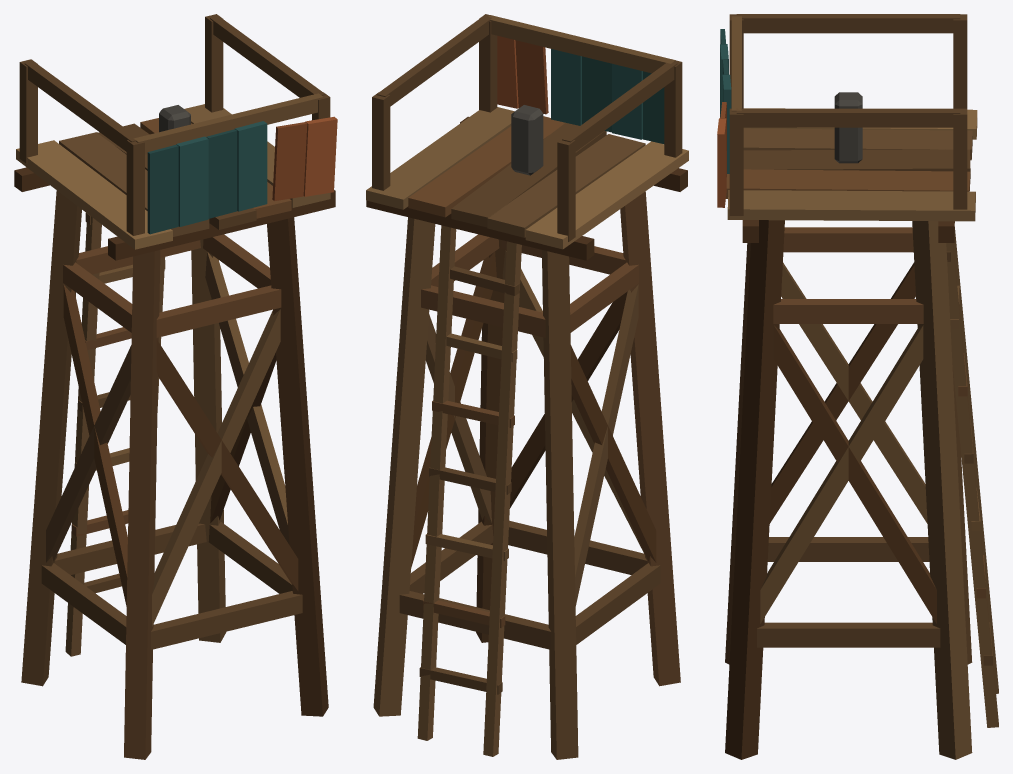
The model's file is torre_2.glb.
3 renders of one model, left to right at view 1: azimuth 30°, elevation 25°; view 2: azimuth 150°, elevation 25°; view 3: azimuth 270°, elevation 25°, orthographic. The views are drawn at different scales.
Visible parts, largest first — view 1: torre_2.001; view 2: torre_2.001; view 3: torre_2.001.
Boxes of the visible parts, x1,y1,x2,y2 form: torre_2.001: (14,14,337,759); torre_2.001: (366,14,688,759); torre_2.001: (717,14,998,759).
Bounding box in the file's own units: 1.14 × 3.06 × 1.21.
